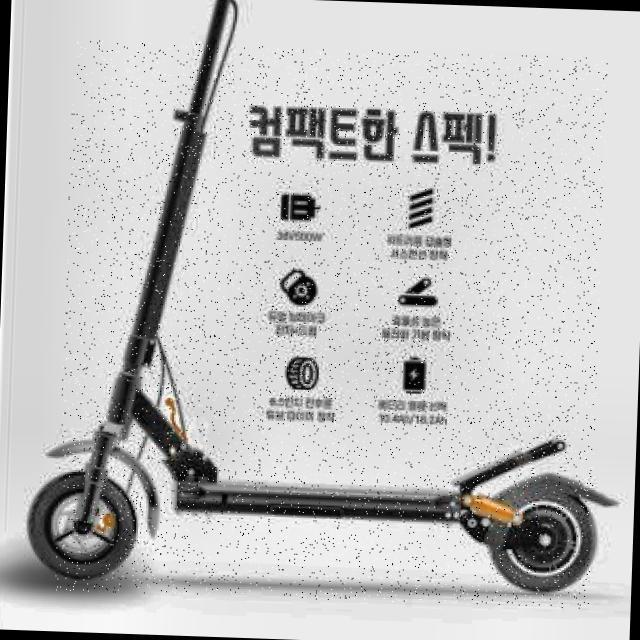bike: (26, 12, 616, 594), (20, 432, 622, 593)
